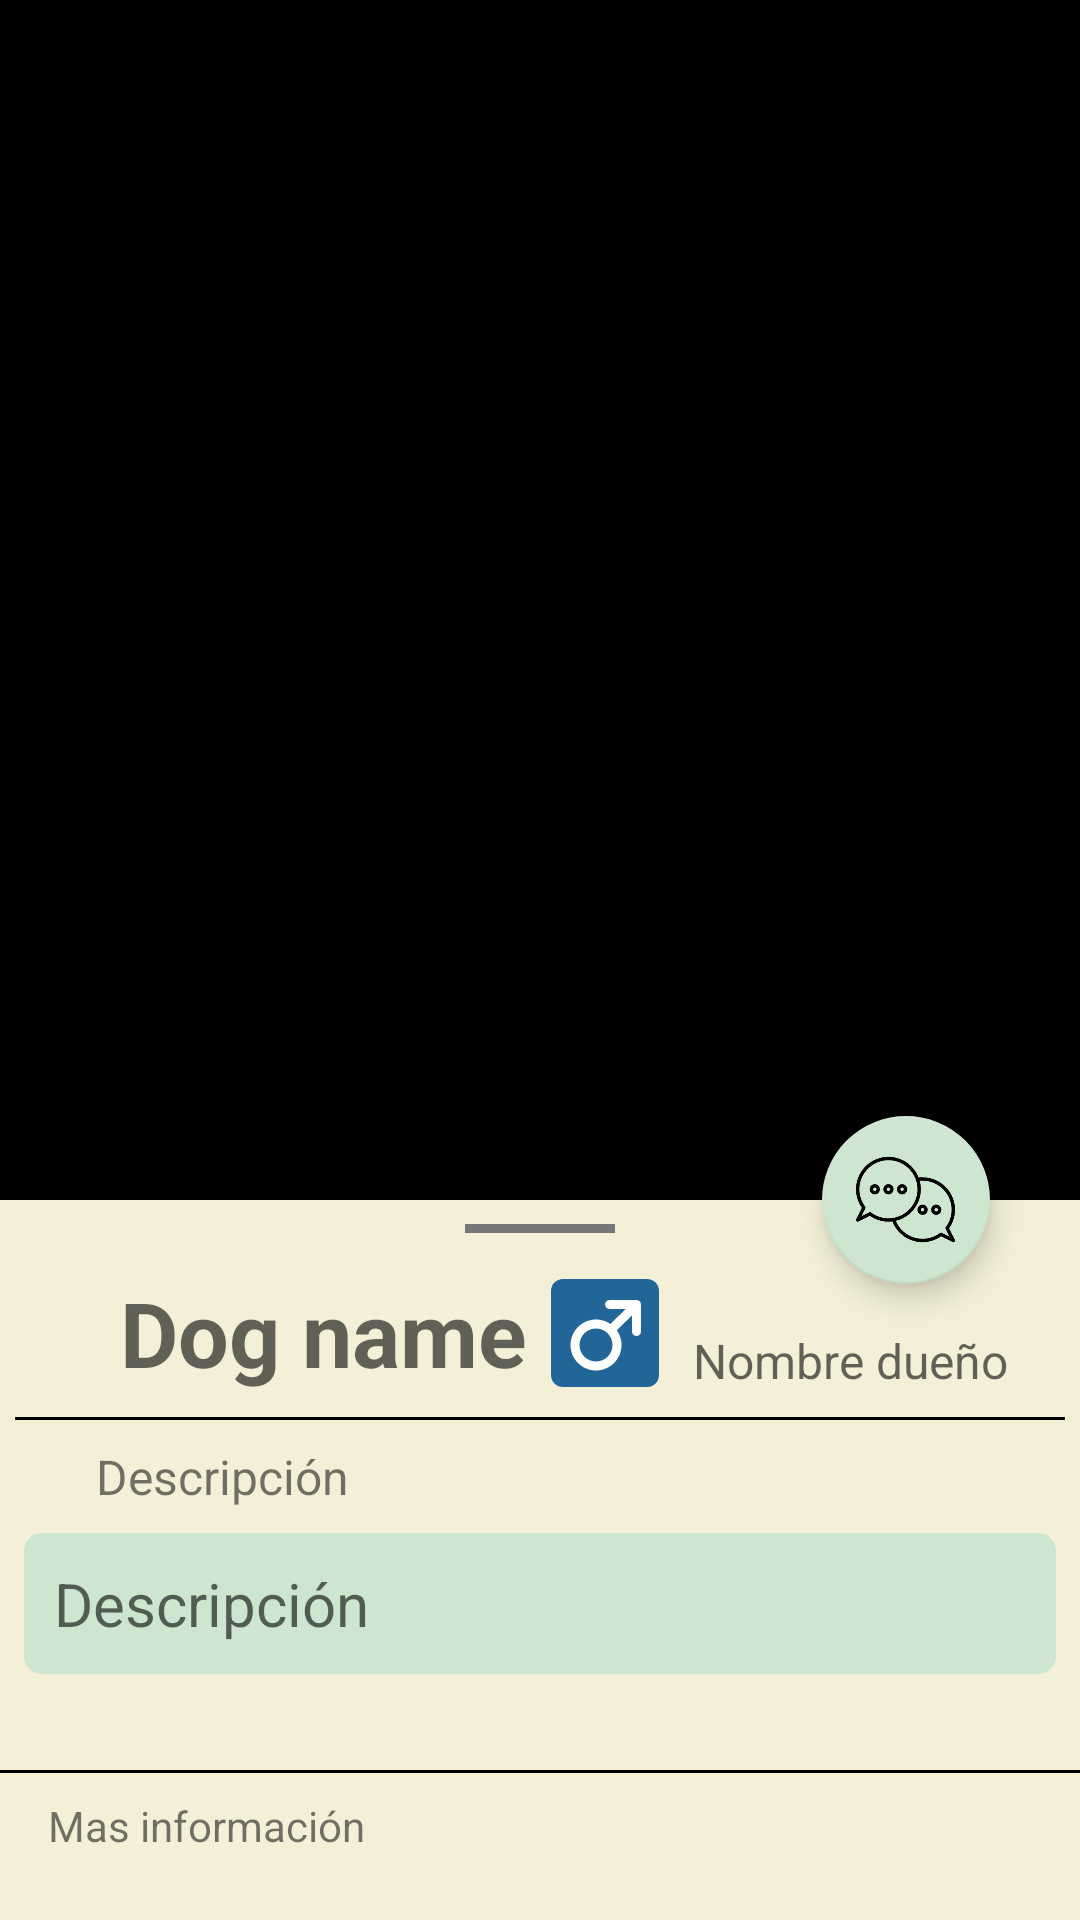

Icons on this 1080px x 1920px Android screen, each with the point to tap as point (x, y):
male: point (605, 1333)
newchat: point (906, 1200)
